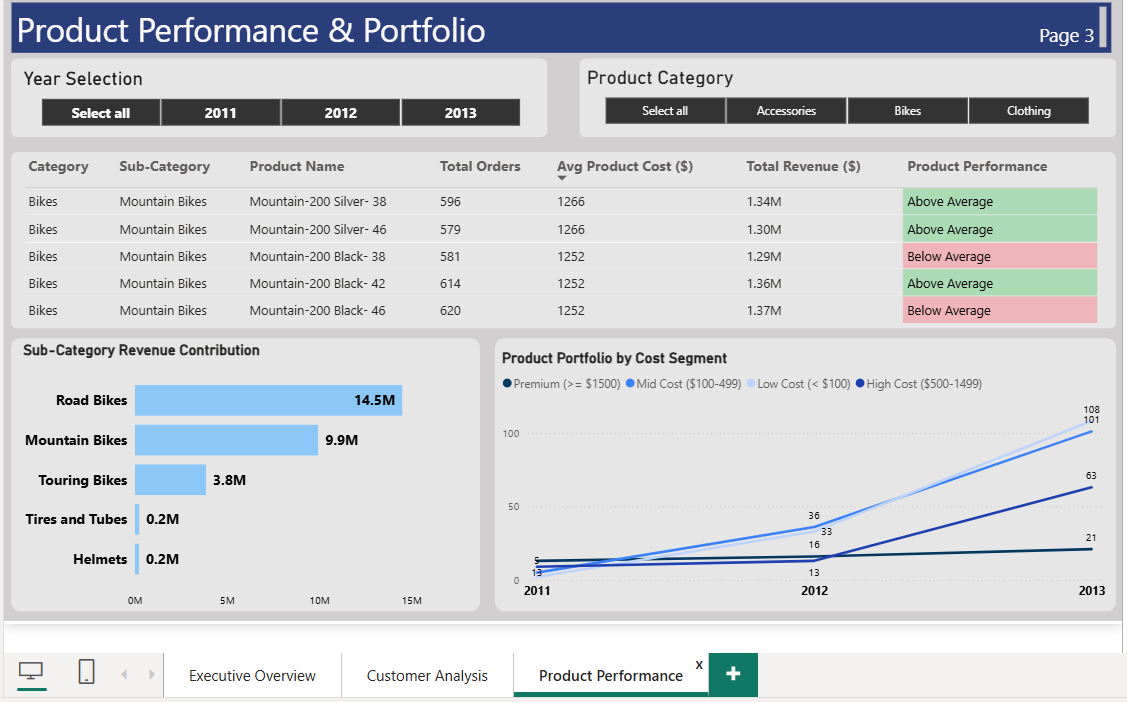

The dashboard page shown, as its layout file describes it:
{"tool":"powerbi","page":{"name":"Product Performance","canvas":[1280,720],"ordinal":2},"visuals":[{"type":"lineChart","title":"Product Portfolio by Cost Segment","fields":{"Category":["_Date.Year"],"Series":["Product Segment.cost_segment"],"Y":["Max(Product Segment.cumulative_portfolio_size)"]},"box":[565.6,405.6,701.1,296.7],"z":0},{"type":"clusteredBarChart","title":"Sub-Category Revenue Contribution","fields":{"Category":["Product_Report.Sub-Category"],"Y":["Sum(Product_Report.Total Revenue)"]},"box":[16.7,396.7,505.6,315.6],"z":1000},{"type":"slicer","title":"Year Selection","fields":{"Values":["_Date.Year"]},"box":[16.7,83.3,597.8,70],"z":2000},{"type":"slicer","title":"Product Category","fields":{"Values":["Product_Report.Category"]},"box":[663.3,81.1,603.3,72.2],"z":3000},{"type":"tableEx","fields":{"Values":["Product_Report.Category","Product_Report.Sub-Category","Product_Report.Product Name","Sum(Product_Report.Total Orders)","Avg(Product_Report.Product Cost)","Sum(Product_Report.Total Revenue)","Product_Report.Product Performance"]},"box":[16.7,173.3,1251.1,210],"z":4000},{"type":"textbox","box":[8.9,8.9,1258.9,57.8],"z":5000}]}

Visuals, with their boxes on the page's 1280x720 design canvas (x1, y1, x2, y2). These are canvas units, not pixel positions in the 1127x702 screenshot, which may show the page scaled, cropped or inside an application window:
"Product Portfolio by Cost Segment" lineChart: left=566, top=406, right=1267, bottom=702
"Sub-Category Revenue Contribution" clusteredBarChart: left=17, top=397, right=522, bottom=712
"Year Selection" slicer: left=17, top=83, right=614, bottom=153
"Product Category" slicer: left=663, top=81, right=1267, bottom=153
tableEx - Product_Report.Category x Product_Report.Sub-Category: left=17, top=173, right=1268, bottom=383
textbox: left=9, top=9, right=1268, bottom=67
